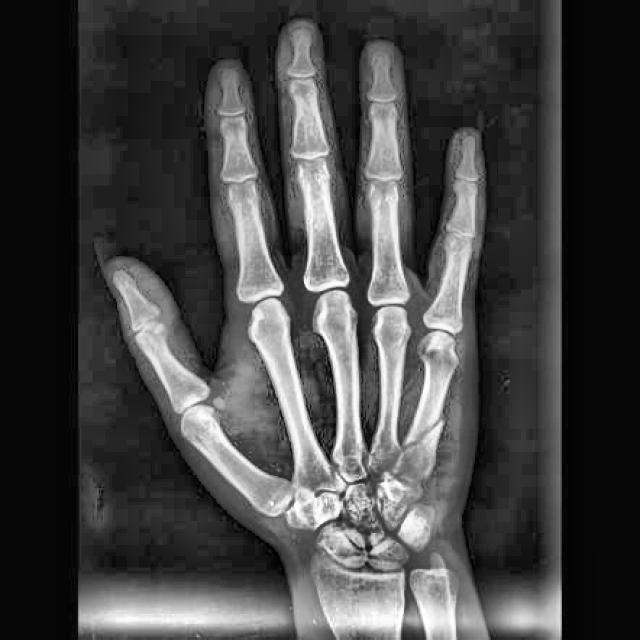fracture: (400, 416, 446, 453)
